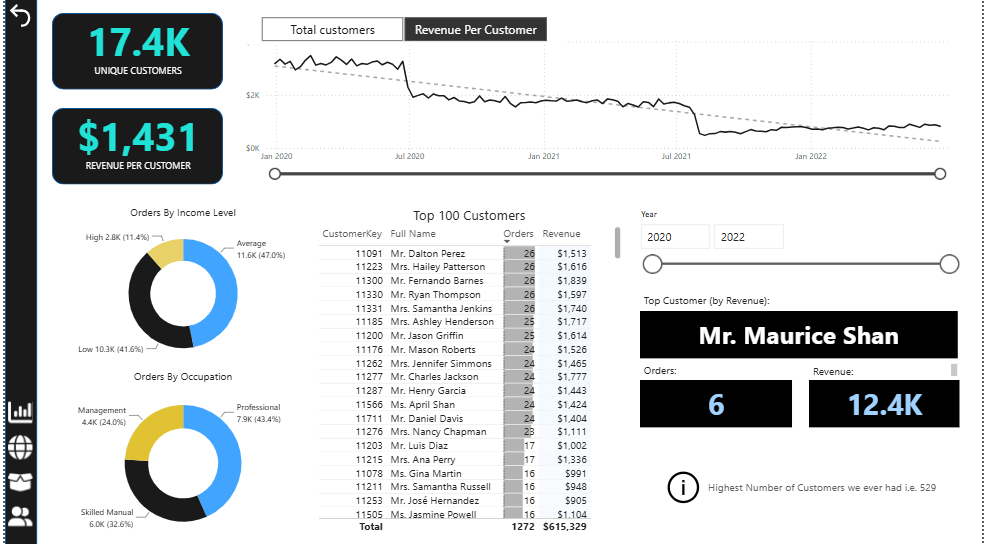

What the dashboard file says about the page in this screenshot:
{"tool":"powerbi","page":{"name":"Customer Detail","canvas":[1280,720],"ordinal":3},"visuals":[{"type":"shape","title":"LEFT NAV BACKGROUND","box":[0,0,42,720],"z":0},{"type":"shape","box":[61.7,23.6,223.8,100],"z":0,"group":"g3"},{"type":"group","id":"g1","title":"REVENUE PER CUSTOMER","box":[61.7,134.6,223.3,113.3],"z":0,"group":"g2"},{"type":"shape","box":[61.7,148.6,223.8,100],"z":0,"group":"g1"},{"type":"actionButton","box":[0,526.7,41.7,40],"z":0,"group":"g4"},{"type":"group","id":"g2","title":"KPI's","box":[61.7,9.6,223.3,238.3],"z":1000},{"type":"group","id":"g3","title":"UNIQUE CUSTOMER","box":[61.7,9.6,223.3,113.3],"z":1000,"group":"g2"},{"type":"card","fields":{"Values":["Measure Table.Total costomers"]},"box":[67.9,9.6,212.5,113.8],"z":1000,"group":"g3"},{"type":"card","fields":{"Values":["Measure Table.Average Revenue Per Customer"]},"box":[67.9,134.6,212.5,113.8],"z":1000,"group":"g1"},{"type":"actionButton","box":[0,572.3,41.7,40],"z":1000,"group":"g4"},{"type":"lineChart","title":"Customers Trending","fields":{"Y":["Measure Table.Average Revenue Per Customer"],"Category":["Calendar Lookup.Date Hierarchy.Start of Year","Calendar Lookup.Date Hierarchy.Start of Month","Calendar Lookup.Date Hierarchy.Start of Week","Calendar Lookup.Date Hierarchy.Date"]},"box":[310,46.7,940,198.3],"z":2000},{"type":"actionButton","box":[0,663.4,41.7,40],"z":2000,"group":"g4"},{"type":"donutChart","title":"Orders By Income Level","fields":{"Category":["Customer Lookup.Income Level"],"Y":["Measure Table.Total orders"]},"box":[61.7,275,343.3,215],"z":3000},{"type":"actionButton","box":[0,617.8,41.7,40],"z":3000,"group":"g4"},{"type":"donutChart","title":"Orders By Occupation","fields":{"Y":["Measure Table.Total orders"],"Category":["Customer Lookup.Occupation"]},"box":[61.7,490,343.3,230],"z":4000},{"type":"tableEx","title":"Top 100 Customers","fields":{"Values":["Customer Lookup.CustomerKey","Customer Lookup.Full Name","Measure Table.Total orders","Measure Table.Total revenue"]},"box":[405,275,406.7,433.3],"z":5000},{"type":"card","fields":{"Values":["Customer Lookup.Full Name (Customer Detail)"]},"box":[831.7,414,416.2,61.9],"z":6000},{"type":"card","fields":{"Values":["Measure Table.Total Orders (Customer Detail)"]},"box":[831.7,503.7,198.7,61.9],"z":7000},{"type":"card","fields":{"Values":["Measure Table.Total Revenue (Customer Detail)"]},"box":[1052,503.7,197.3,61.9],"z":8000},{"type":"textbox","box":[831.7,385.2,198.7,28.8],"z":9000},{"type":"textbox","box":[831.7,475.9,198.7,28.8],"z":10000},{"type":"textbox","box":[1052,477.3,198.7,25.9],"z":11000},{"type":"slicer","fields":{"Values":["Calendar Lookup.Year"]},"box":[820,276.7,438.3,106.7],"z":12000},{"type":"actionButton","box":[861.7,618.3,361.7,53.3],"z":13000},{"type":"actionButton","box":[0,7.1,41.4,40],"z":14000},{"type":"group","id":"g4","title":"Navigation Buttons","box":[0,526.7,41.7,176.7],"z":15000},{"type":"slicer","fields":{"Values":["Customer Metric Solution.Customer Metric Solution"]},"box":[310,22.9,422.9,42.9],"z":16000}]}

Visuals, with their boxes on the page's 1280x720 design canvas (x1, y1, x2, y2). These are canvas units, not pixel positions in the 994x544 screenshot, which may show the page scaled, cropped or inside an application window:
"LEFT NAV BACKGROUND" shape: 0 0 42 720
shape: 62 24 286 124
"REVENUE PER CUSTOMER" group: 62 135 285 248
shape: 62 149 286 249
actionButton: 0 527 42 567
"KPI's" group: 62 10 285 248
"UNIQUE CUSTOMER" group: 62 10 285 123
card - Measure Table.Total costomers: 68 10 280 123
card - Measure Table.Average Revenue Per Customer: 68 135 280 248
actionButton: 0 572 42 612
"Customers Trending" lineChart: 310 47 1250 245
actionButton: 0 663 42 703
"Orders By Income Level" donutChart: 62 275 405 490
actionButton: 0 618 42 658
"Orders By Occupation" donutChart: 62 490 405 720
"Top 100 Customers" tableEx: 405 275 812 708
card - Customer Lookup.Full Name (Customer Detail): 832 414 1248 476
card - Measure Table.Total Orders (Customer Detail): 832 504 1030 566
card - Measure Table.Total Revenue (Customer Detail): 1052 504 1249 566
textbox: 832 385 1030 414
textbox: 832 476 1030 505
textbox: 1052 477 1251 503
slicer - Calendar Lookup.Year: 820 277 1258 383
actionButton: 862 618 1223 672
actionButton: 0 7 41 47
"Navigation Buttons" group: 0 527 42 703
slicer - Customer Metric Solution.Customer Metric Solution: 310 23 733 66
